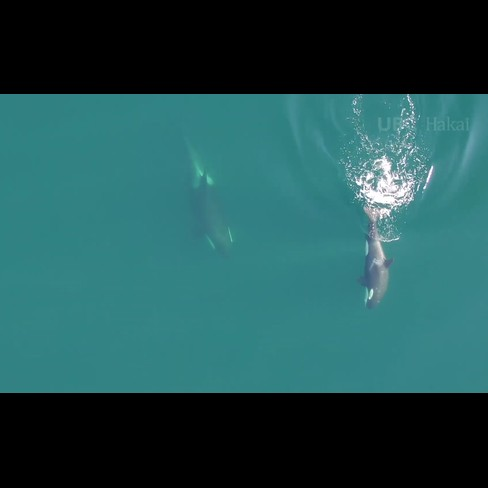orca: (168, 123, 243, 267), (354, 185, 400, 316)
